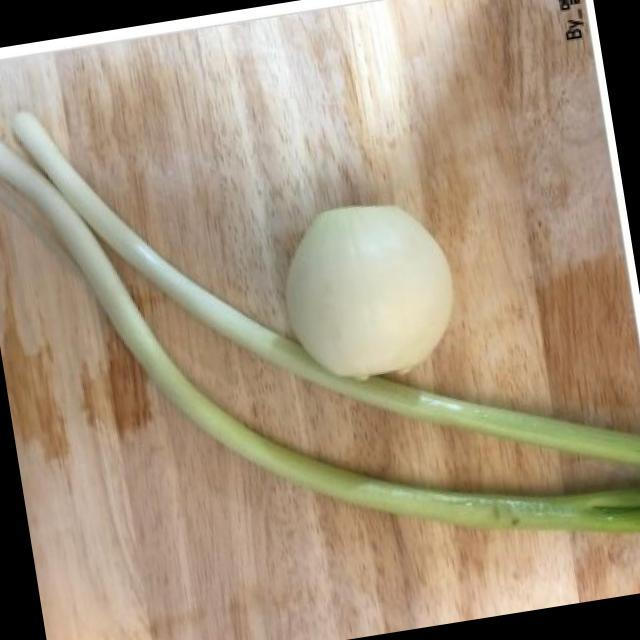Onion: (291, 206, 450, 381)
